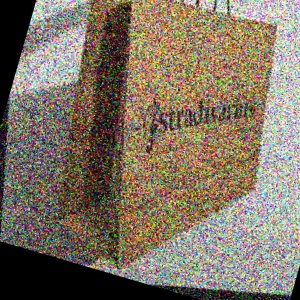stradivarius: (84, 66, 300, 224)
